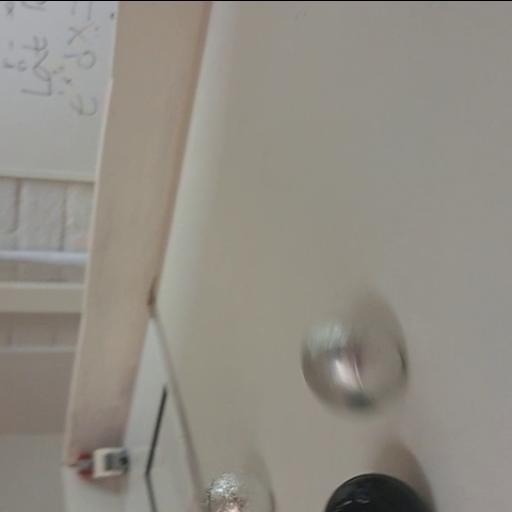alive: (296, 309, 410, 419), (198, 468, 272, 512)
dead: (320, 470, 434, 512)
